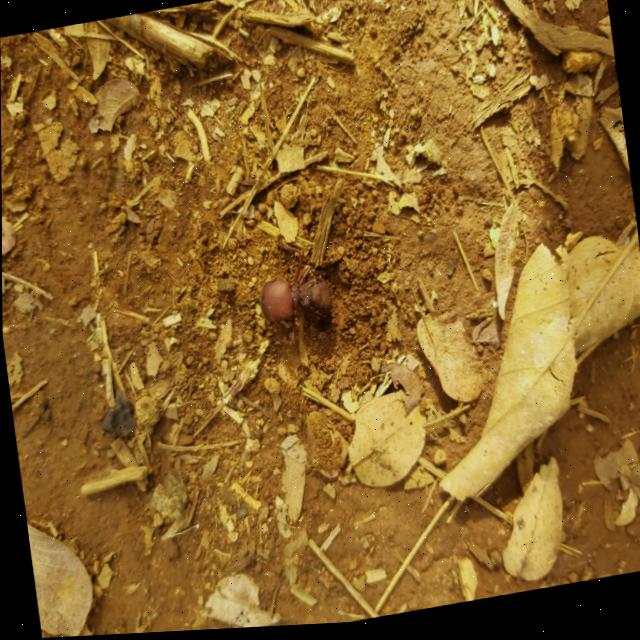Alive-Female-Dealate: (253, 267, 339, 332)
